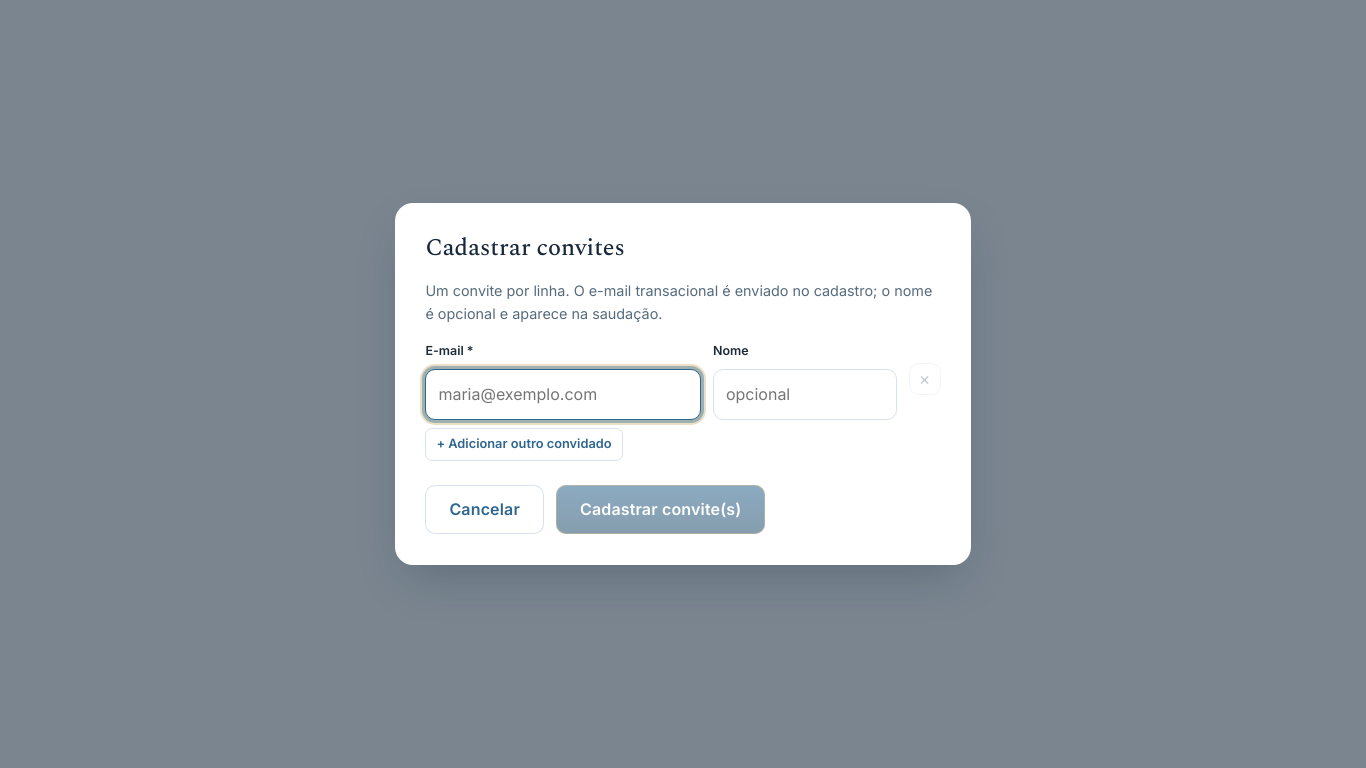
ModalConvite › e-mail inválido bloqueia o envio e mostra erro
Step 1. Type "nao-eh-email" into the field with placeholder "maria@exemplo.com" → (563, 395), box x1=425 y1=369 x2=701 y2=420
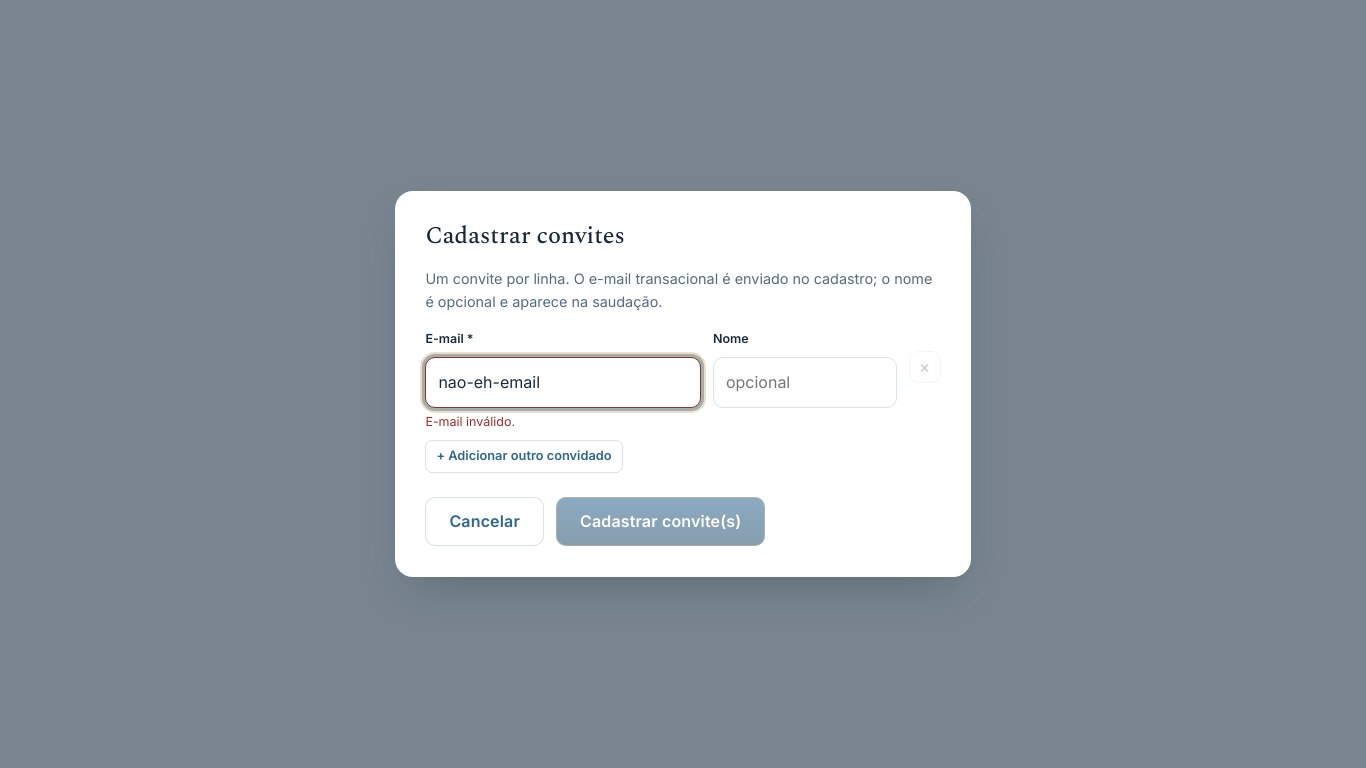
Check: the button "Cadastrar convite(s)" is disabled, box x1=556 y1=497 x2=765 y2=546
Check: the text "E-mail inválido." is shown, box x1=425 y1=414 x2=515 y2=429
